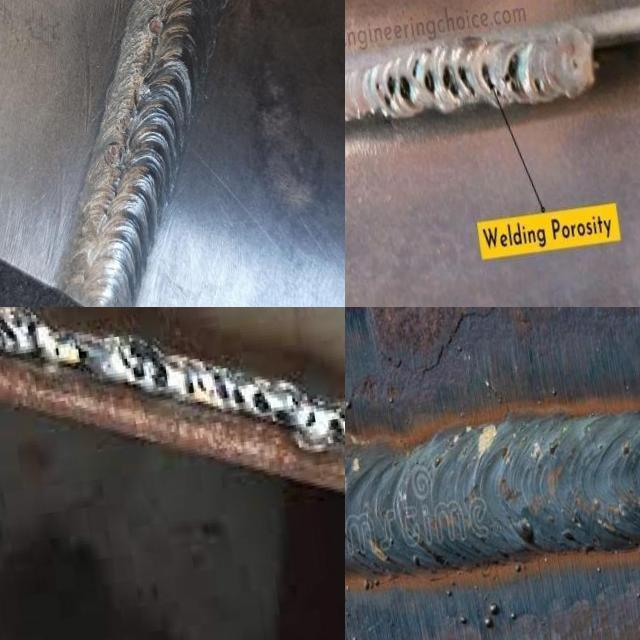defect: (117, 337, 173, 394), (182, 376, 247, 409), (382, 57, 422, 110), (247, 389, 293, 426), (0, 313, 41, 349), (502, 49, 524, 97), (479, 59, 505, 99), (323, 399, 345, 444), (442, 65, 459, 98), (458, 65, 476, 96), (70, 339, 92, 364), (145, 16, 164, 39), (103, 143, 120, 168), (301, 407, 318, 432), (117, 109, 134, 133), (423, 68, 436, 97), (129, 61, 143, 80), (532, 75, 545, 95), (54, 345, 63, 359), (376, 82, 381, 92)
